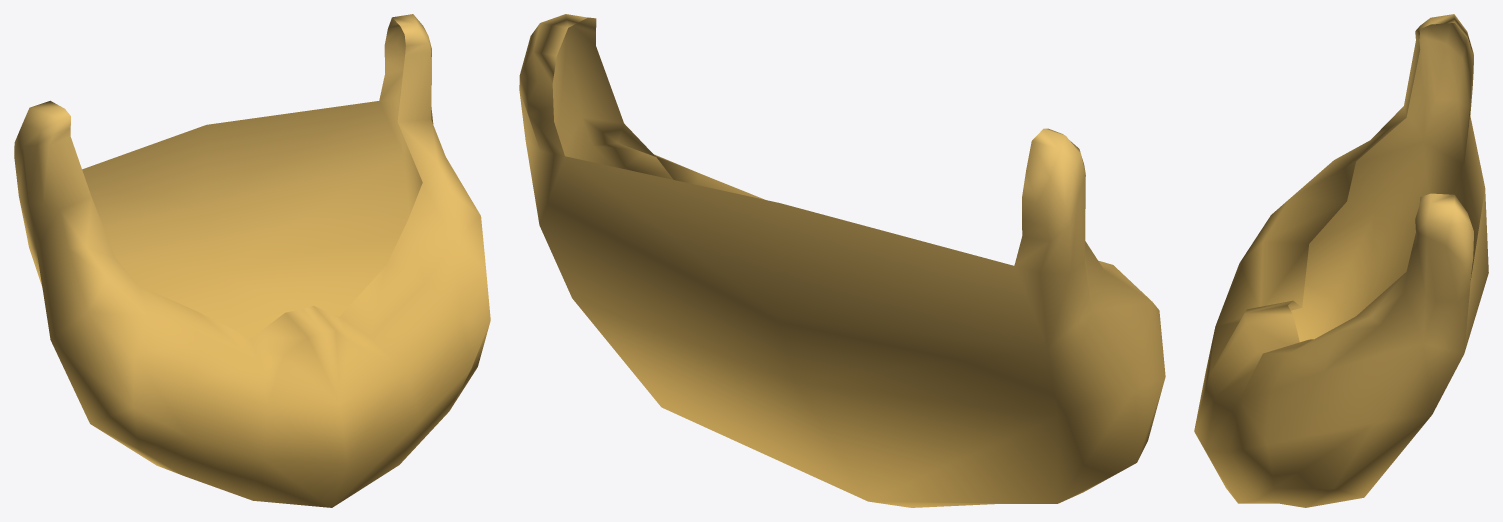
File: Mustache_24.fbx
3 views of the same model, side by side, from view 1: azimuth 30°, elevation 25°; view 2: azimuth 150°, elevation 25°; view 3: azimuth 270°, elevation 25° (orthographic). The views are drawn at different scales.
Visible parts, largest first — view 1: Mustache_24; view 2: Mustache_24; view 3: Mustache_24.
Boxes of the visible parts, x1,y1,x2,y2 form: Mustache_24: (14,14,490,507); Mustache_24: (519,14,1165,507); Mustache_24: (1194,14,1488,507).
Bounding box in the file's own units: 54 × 46 × 31.97.
